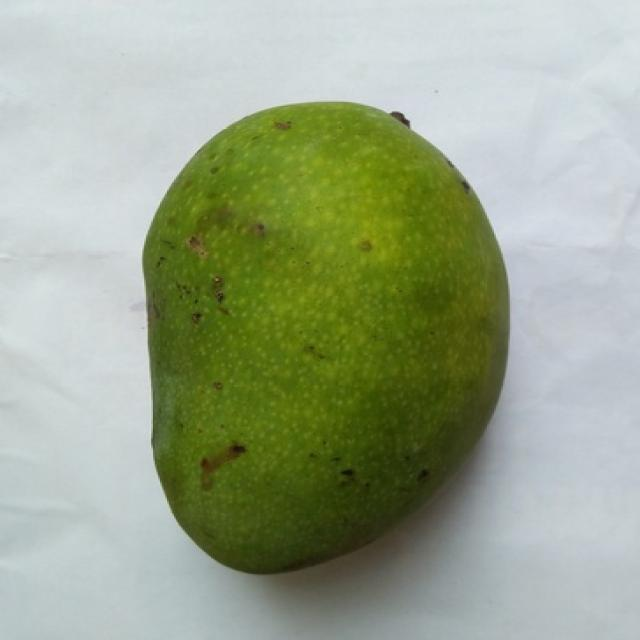Mango: (144, 103, 506, 573)
